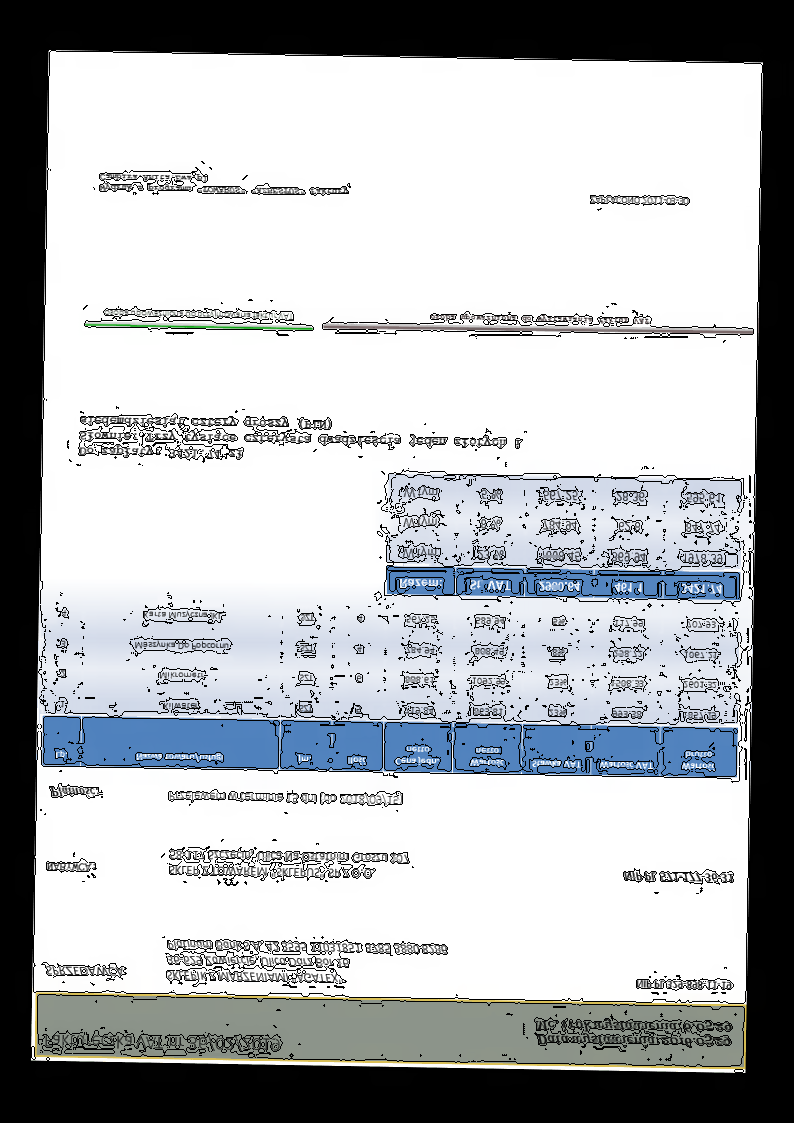Table: (40, 591, 740, 779), (386, 472, 742, 601)
TextBox: (76, 411, 526, 467), (162, 932, 450, 990), (166, 846, 411, 882), (531, 1013, 735, 1053), (96, 169, 353, 198), (40, 1030, 283, 1057), (166, 787, 405, 807), (427, 311, 652, 328), (101, 307, 295, 323), (621, 868, 735, 886), (633, 975, 732, 994), (41, 961, 128, 981), (588, 193, 691, 209), (43, 858, 97, 875), (47, 784, 101, 801)
